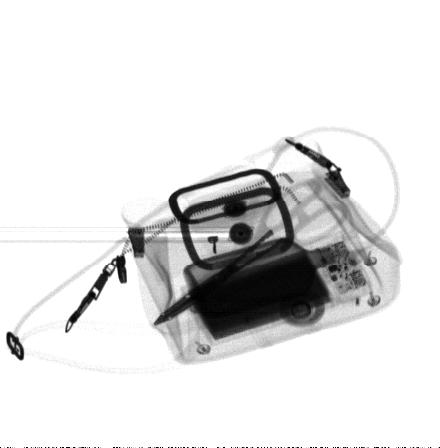Powerbank: (178, 228, 378, 347)
Scissors: (152, 176, 350, 325)
